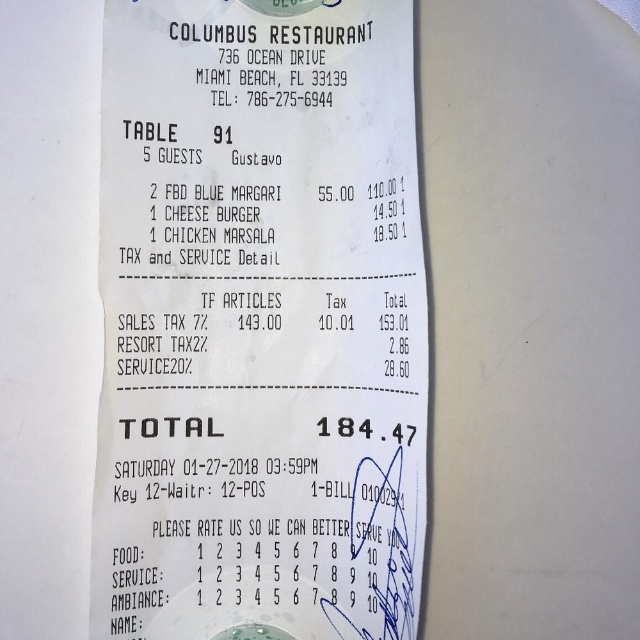invoice_table: (144, 175, 414, 247)
invoice_title: (166, 17, 378, 108)
invoice_total: (116, 414, 423, 446)
